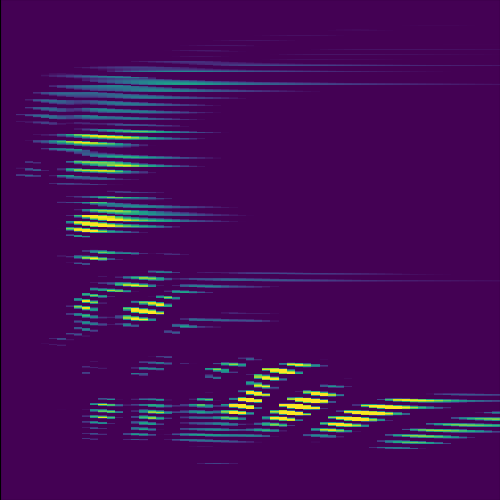semblance: (223, 358, 319, 429), (80, 273, 177, 331), (323, 392, 446, 436), (256, 385, 340, 433), (391, 413, 500, 445), (67, 206, 156, 238), (69, 155, 148, 184), (60, 125, 149, 148), (73, 244, 129, 269), (207, 357, 248, 375)
